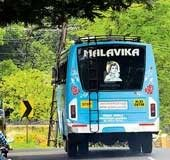bus: (51, 36, 164, 156)
right turn: (20, 101, 38, 119)
